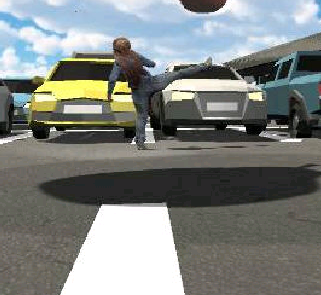turn_right: (107, 37, 215, 149)
